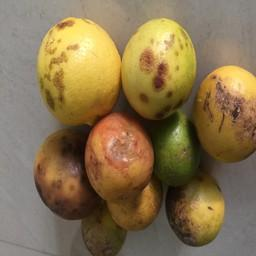Bad_lime: (28, 12, 256, 256), (121, 15, 198, 119), (33, 20, 113, 112), (199, 62, 256, 176), (90, 114, 156, 202), (38, 126, 91, 228), (164, 177, 225, 248), (72, 201, 130, 256), (105, 188, 161, 232)
